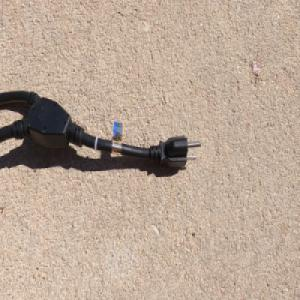Wire: (0, 87, 203, 172)
